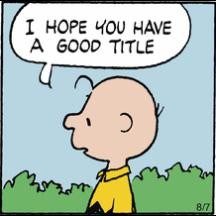charlie: (62, 73, 164, 214)
